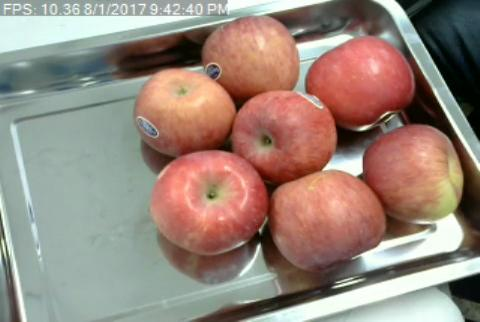apple: (149, 151, 269, 255), (270, 170, 385, 271), (306, 35, 416, 129), (365, 124, 466, 224), (232, 89, 335, 174), (133, 69, 235, 154), (202, 16, 300, 94)
